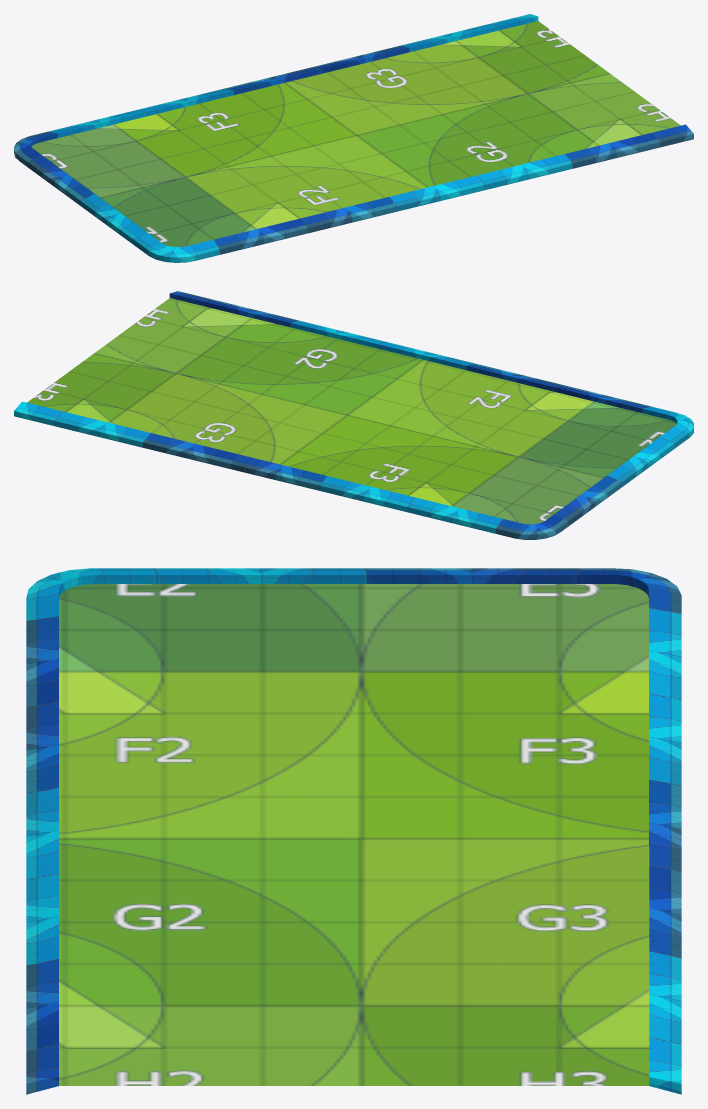
File: GrassBorder1.fbx
The picture shows the model from 3 angles, top to bottom: view 1: azimuth 30°, elevation 25°; view 2: azimuth 150°, elevation 25°; view 3: azimuth 270°, elevation 25°; orthographic projection. The views are drawn at different scales.
Parts seen in each view (by area): view 1: GrassBorder1; view 2: GrassBorder1; view 3: GrassBorder1.
Boxes of the visible parts, x1=… form: GrassBorder1: x1=14, y1=14, x2=693, y2=262; GrassBorder1: x1=14, y1=291, x2=693, y2=539; GrassBorder1: x1=26, y1=568, x2=681, y2=1094.
Size of the model in its own units: 23.67 by 0.3789 by 12.71.
Materials: 1 (1 with a texture image).
